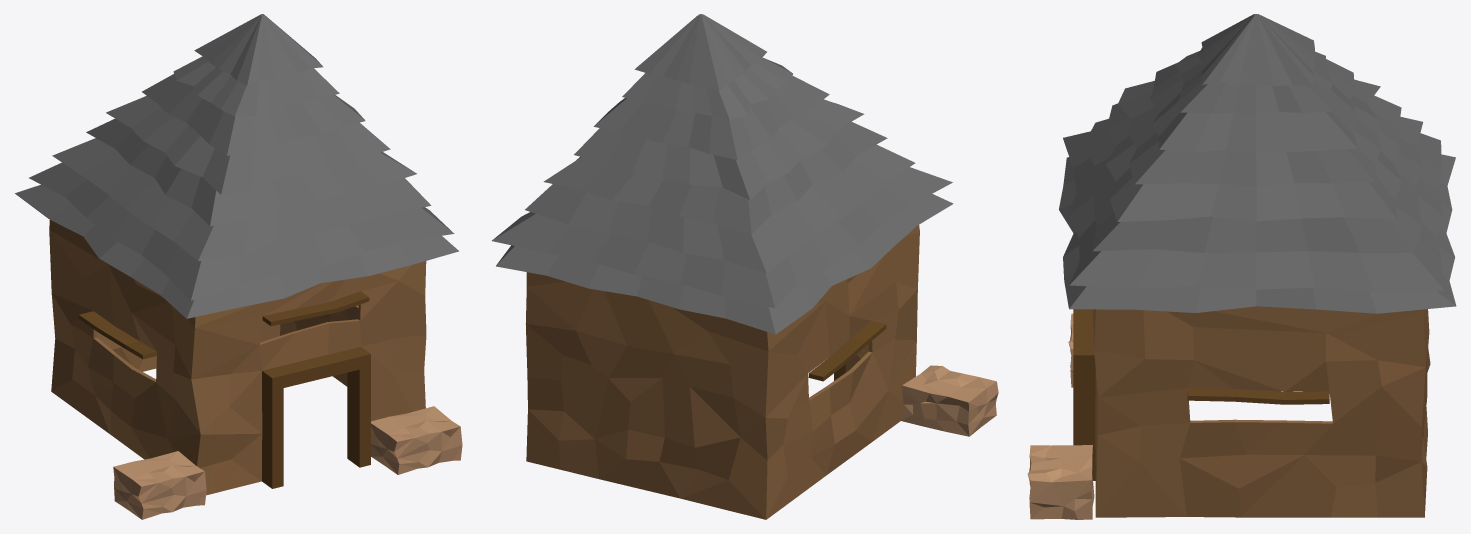
File: Mali_B.fbx
3 views of the same model, side by side, from view 1: azimuth 30°, elevation 25°; view 2: azimuth 150°, elevation 25°; view 3: azimuth 270°, elevation 25° (orthographic). The views are drawn at different scales.
Parts seen in each view (by area): view 1: MaliB; view 2: MaliB; view 3: MaliB.
Boxes of the visible parts, left/top/right/bottom form: MaliB: left=15, top=14, right=462, bottom=519; MaliB: left=492, top=14, right=998, bottom=519; MaliB: left=1027, top=14, right=1456, bottom=519.
Size of the model in its own units: 764 by 887 by 763.
Materials: 1 (1 with a texture image).
